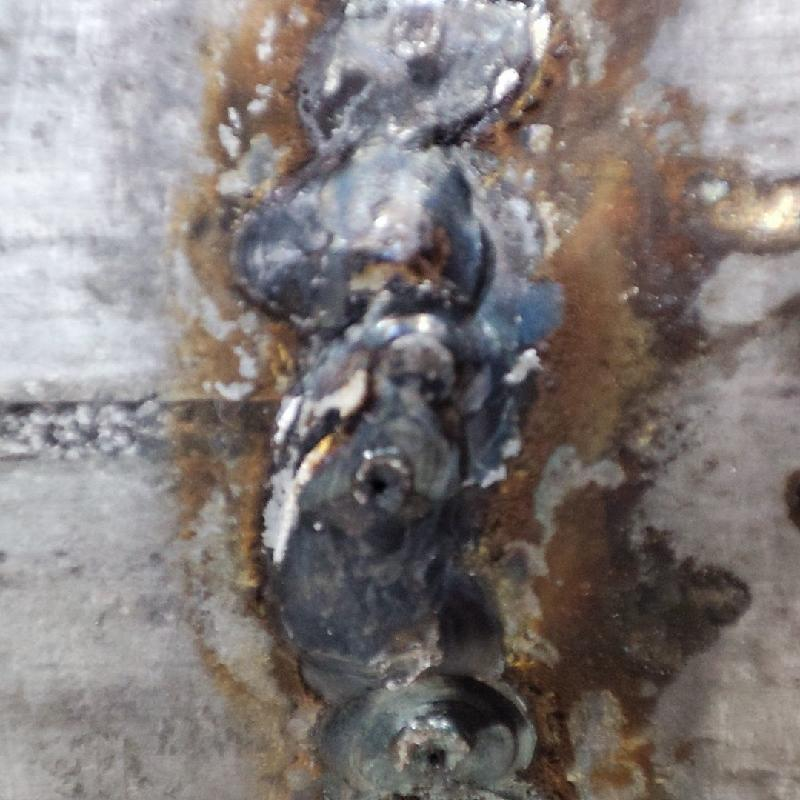Surface_pores: (353, 454, 429, 517), (398, 724, 453, 778)
wrong_size: (260, 6, 541, 796)
